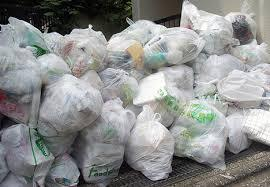Plastic bag: (2, 1, 270, 187)
